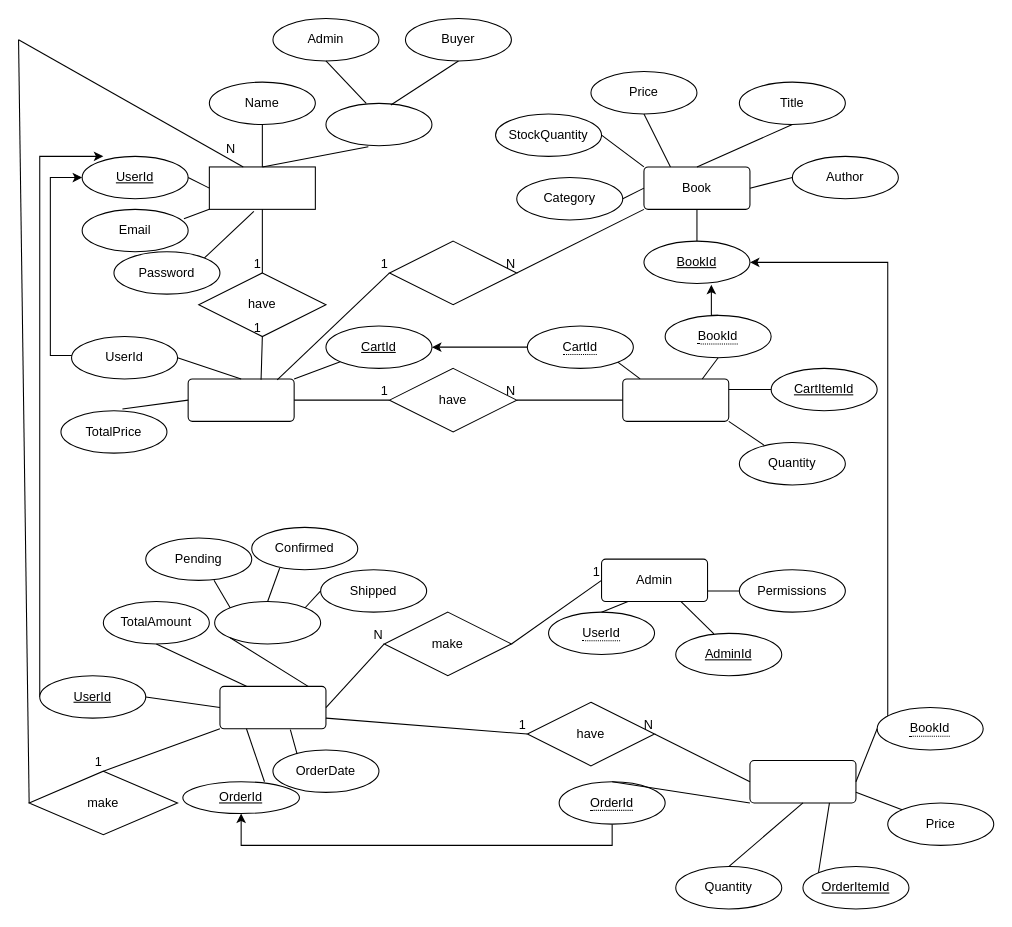
Some shapes in this 1012 by 927 pixel diagram are drawn without their labels. Here are the shapes that lost their labels. From the top down, the box of each, then its label:
(325, 102, 432, 146): Rule
(208, 166, 315, 209): User
(388, 240, 517, 305): contain
(187, 378, 294, 421): Cart
(622, 378, 729, 421): Cart_Items
(214, 600, 321, 644): Status
(219, 685, 326, 729): Order
(749, 759, 856, 803): Order_Items
